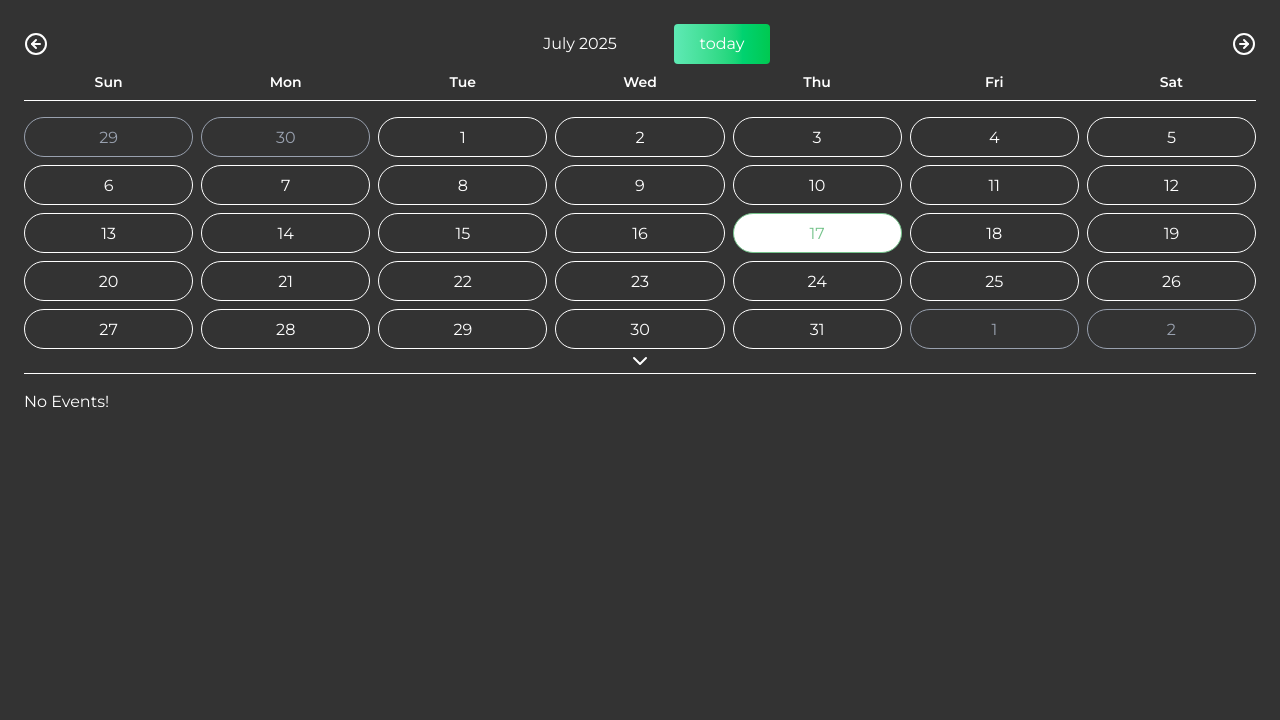
Test: Calendar Page › Date Navigation › navigates to the previous month
Check: the text "July 2025" is shown, box [543,34,617,53]
Step 1. Click the button named "previous month" → click(36, 44), box [24,24,48,64]
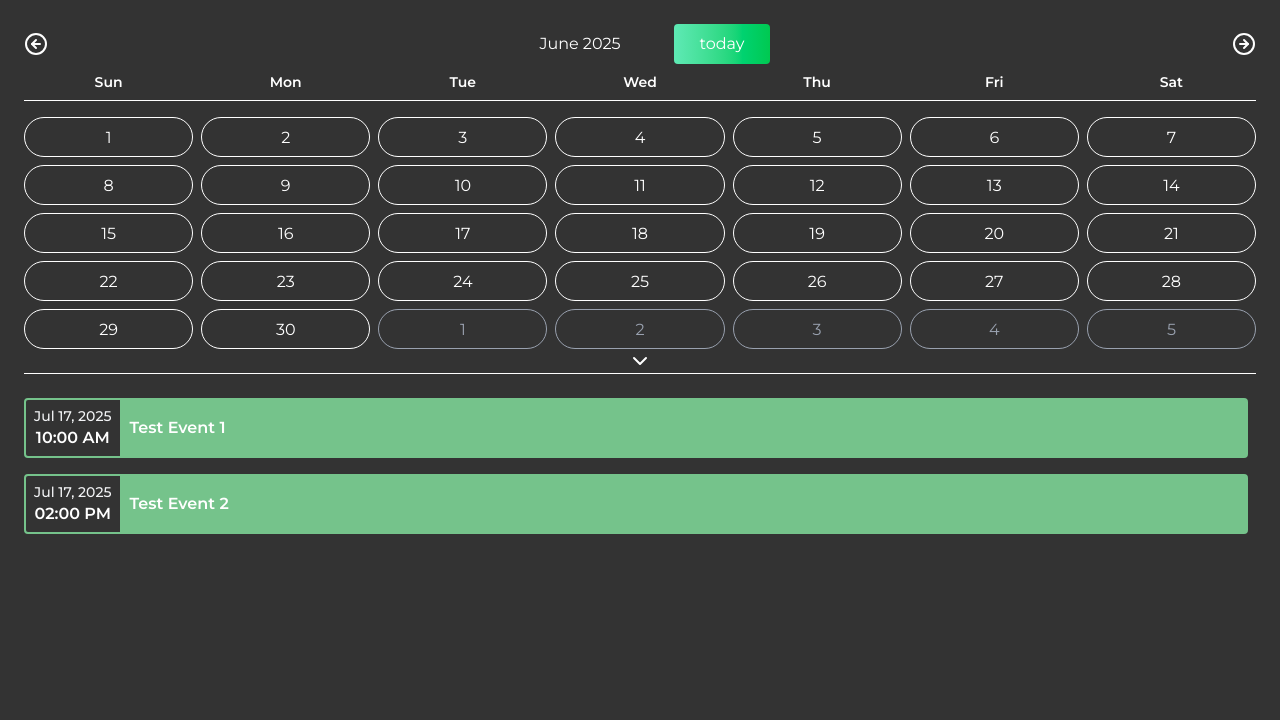
Check: the text "June 2025" is shown, box [539,34,621,53]
